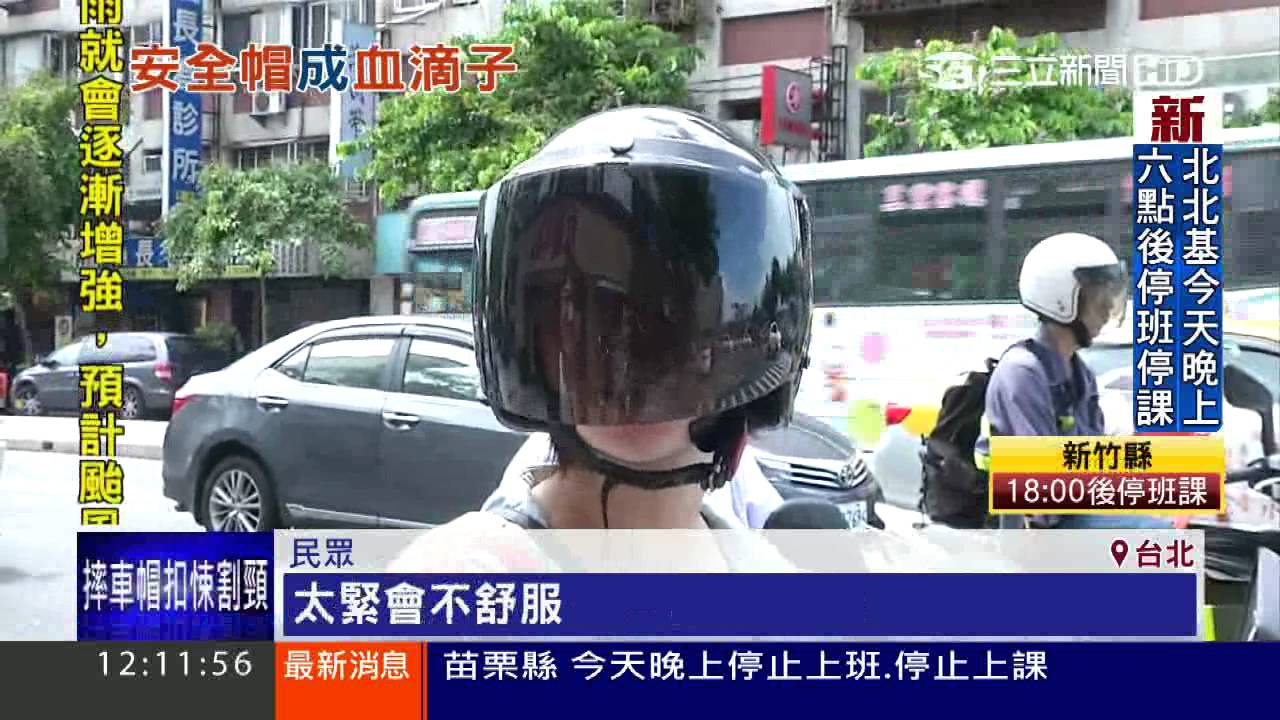helmet: (493, 118, 814, 406), (1017, 240, 1117, 315)
